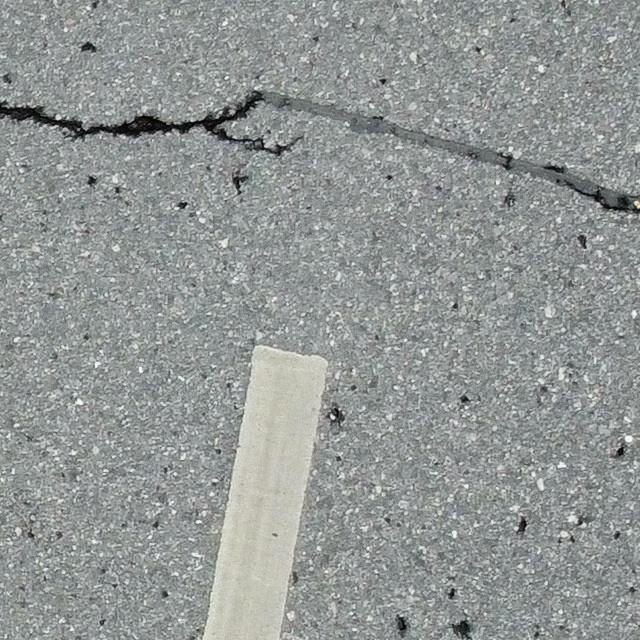TransverseCrack: (1, 88, 640, 212)
